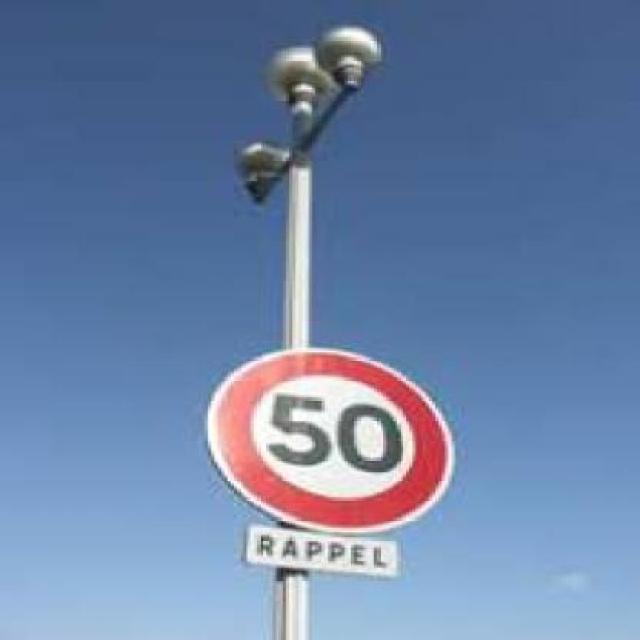forb_speed_over_50: (205, 345, 452, 532)
